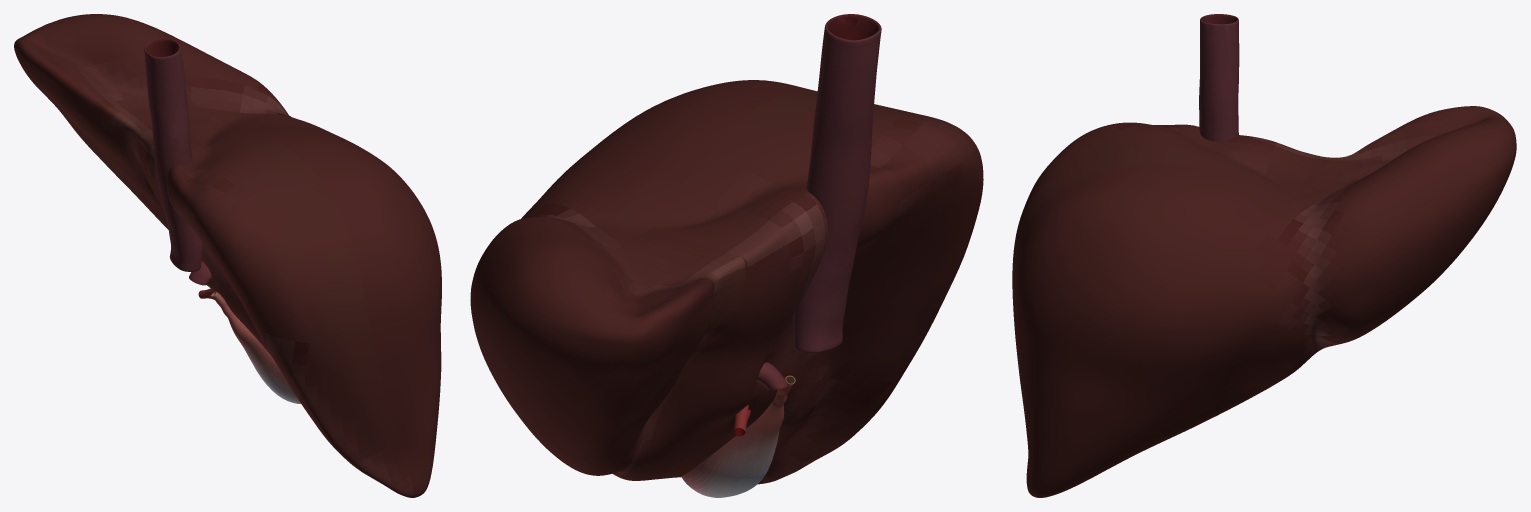
Rendered from liver.glb.
3 views of the same model, side by side, from view 1: azimuth 30°, elevation 25°; view 2: azimuth 150°, elevation 25°; view 3: azimuth 270°, elevation 25° (orthographic). The views are drawn at different scales.
Parts seen in each view (by area): view 1: liver.001, inferior vena cava.001, gallbladder.002; view 2: liver.001, inferior vena cava.001, gallbladder.002, portal vein.001; view 3: liver.001, inferior vena cava.001.
Part boxes in pixels (bbox=[...]): liver.001: bbox=[14, 14, 441, 497]; inferior vena cava.001: bbox=[144, 39, 203, 271]; gallbladder.002: bbox=[211, 291, 300, 403]; liver.001: bbox=[470, 80, 983, 484]; inferior vena cava.001: bbox=[793, 14, 881, 352]; gallbladder.002: bbox=[681, 375, 795, 497]; portal vein.001: bbox=[756, 362, 787, 390]; liver.001: bbox=[1012, 106, 1516, 497]; inferior vena cava.001: bbox=[1199, 14, 1239, 141].
Bounding box in the file's own units: 0.1362 × 0.2221 × 0.2515.
Materials: 5 (5 with a texture image).
